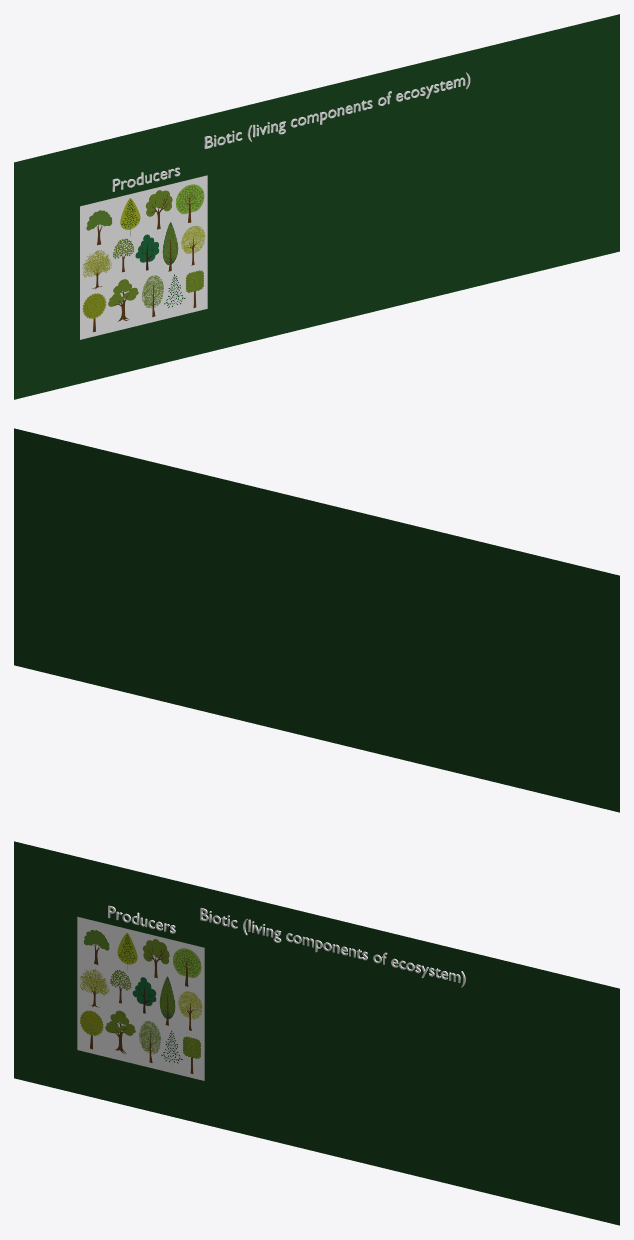
File: producers.gltf
3 renders of one model, top to bottom at view 1: azimuth 30°, elevation 25°; view 2: azimuth 150°, elevation 25°; view 3: azimuth 330°, elevation 25°, orthographic.
Visible parts, largest first — view 1: Plane.013, Plane, Text.001; view 2: Plane.013; view 3: Plane.013, Plane, Text.001.
Part boxes in pixels (left/top/right/bottom): Plane.013: left=14, top=14, right=619, bottom=399; Plane: left=80, top=175, right=207, bottom=339; Text.001: left=204, top=72, right=470, bottom=148; Plane.013: left=14, top=428, right=619, bottom=812; Plane.013: left=14, top=841, right=619, bottom=1225; Plane: left=77, top=916, right=204, bottom=1080; Text.001: left=200, top=908, right=465, bottom=987.
Bounding box in the file's own units: 15.94 × 5.96 × 0.1403.
4 materials, 1 textured.
